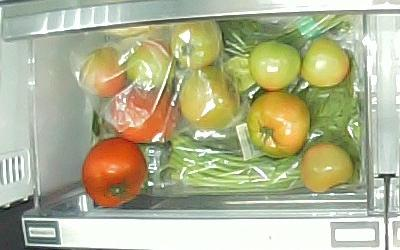tomato: (82, 138, 149, 207), (247, 92, 310, 159), (249, 41, 301, 91), (302, 144, 354, 193), (302, 38, 349, 87)
tomato_vinyl: (111, 85, 181, 142), (180, 68, 240, 129), (170, 20, 222, 69), (83, 48, 128, 97)
